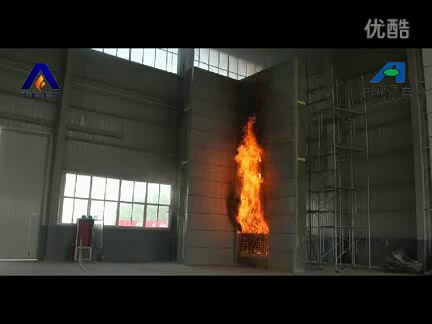fire: (235, 115, 272, 236)
